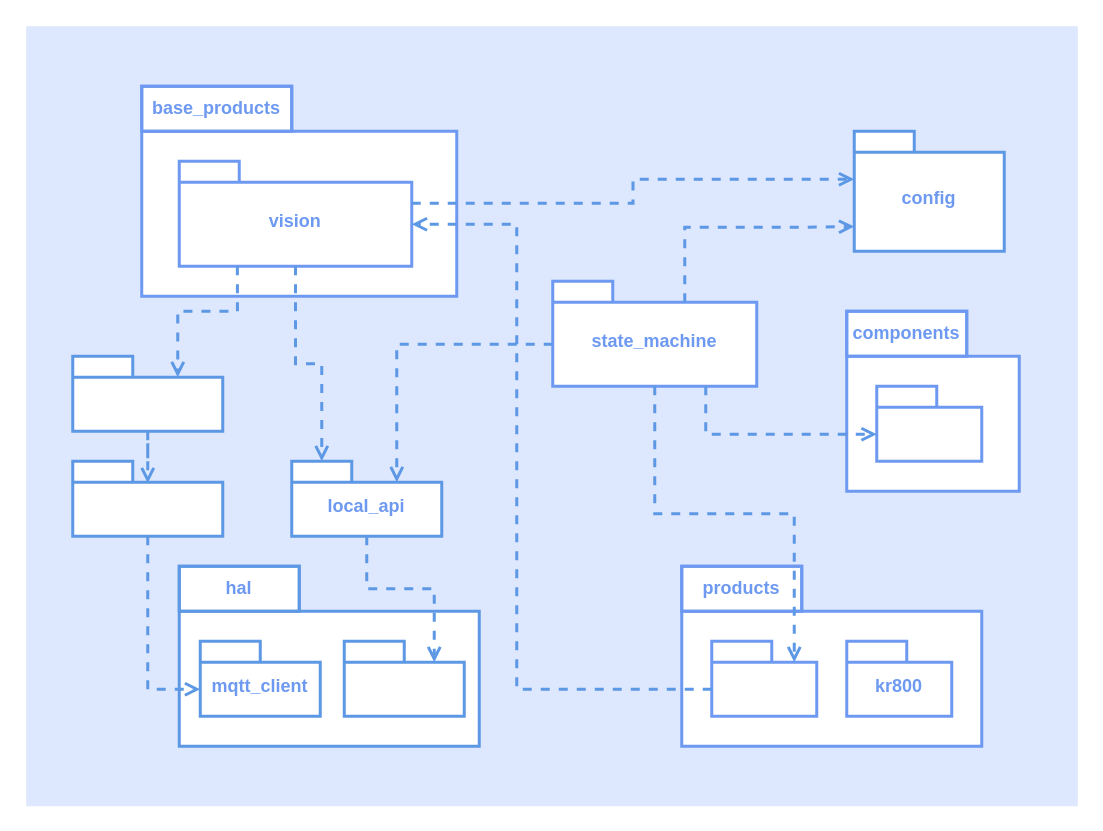
Image size: 1103x831. Some labels were removed from this diagram. Each missing label, with the centre of its shape:
bootstrap: the point at 928,423
iot_api: the point at 147,393
italy_iot_sdk: the point at 147,498
middle_msg: the point at 403,678
wr210e: the point at 764,678
